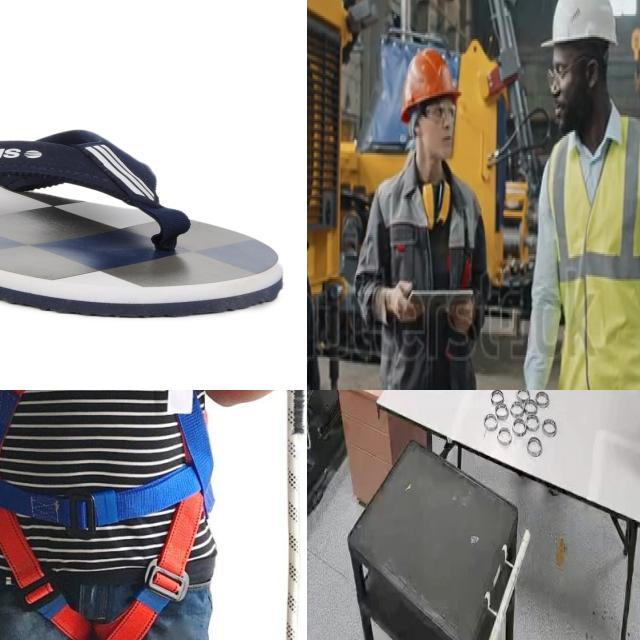Ear-protection: (415, 175, 452, 234)
Harness: (0, 390, 218, 618)
Sandals: (0, 127, 285, 320)
glasses: (544, 54, 579, 93), (417, 100, 463, 129)
head_helmet: (543, 0, 622, 49), (398, 42, 459, 105)
person: (512, 0, 640, 390), (361, 41, 502, 390)
vest: (547, 112, 640, 390)
